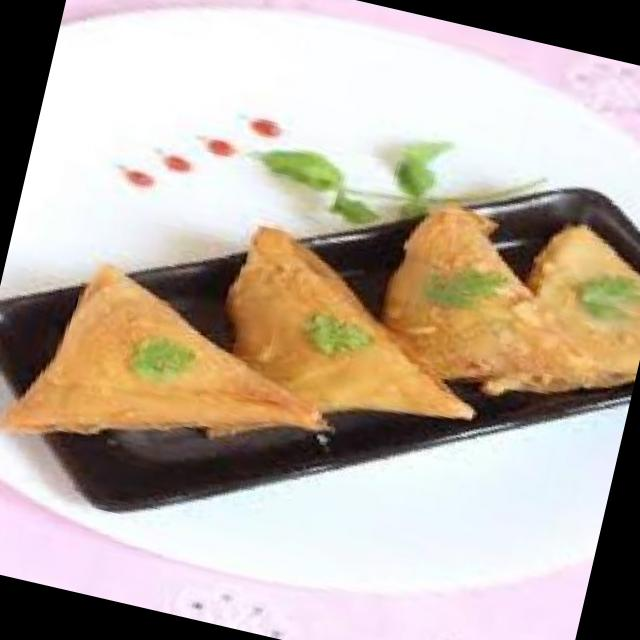samosa: (0, 247, 351, 501), (199, 222, 504, 493), (374, 196, 623, 409), (479, 210, 640, 423)
